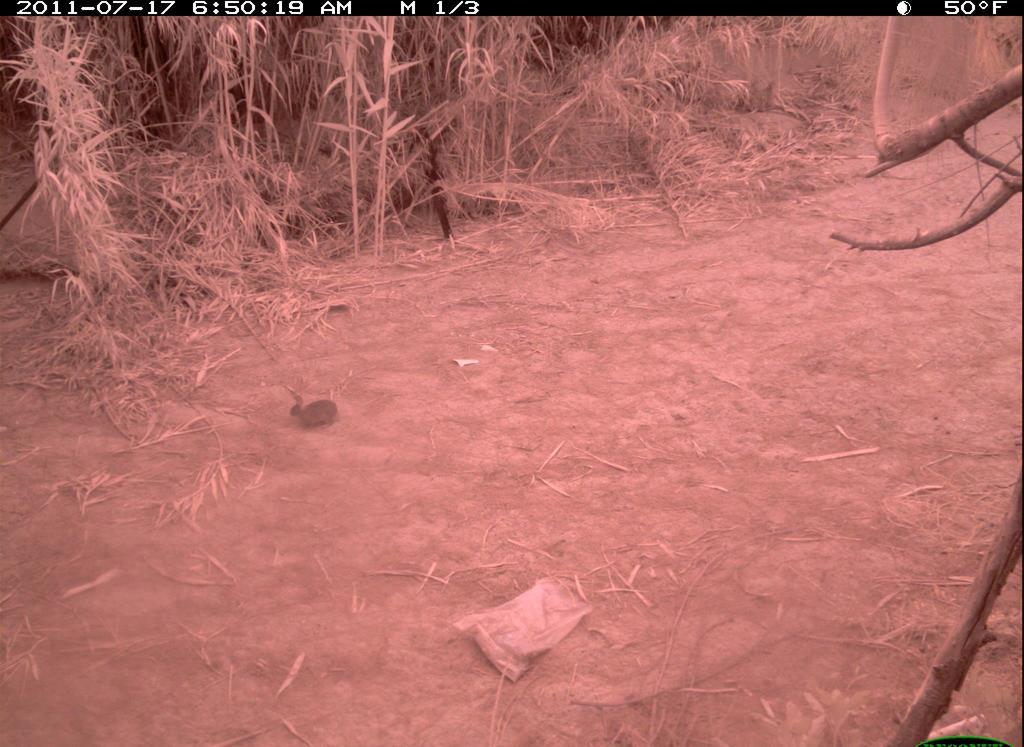rabbit: (274, 372, 358, 437)
